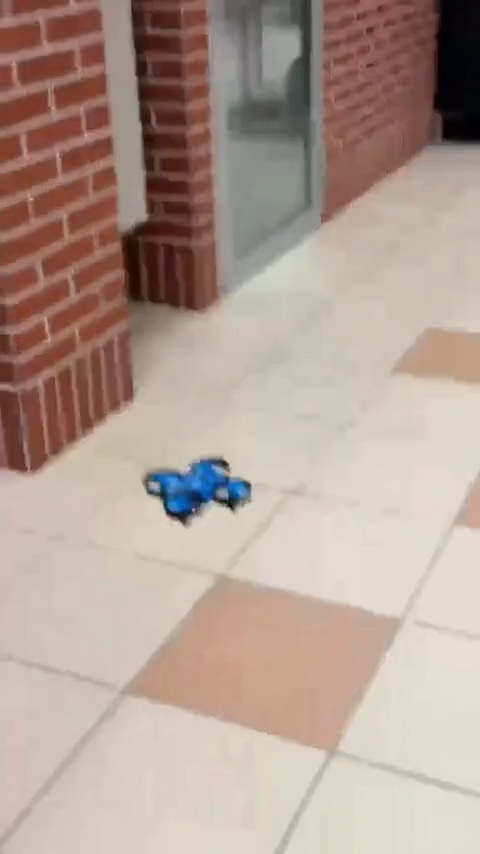drone: (147, 458, 245, 512)
